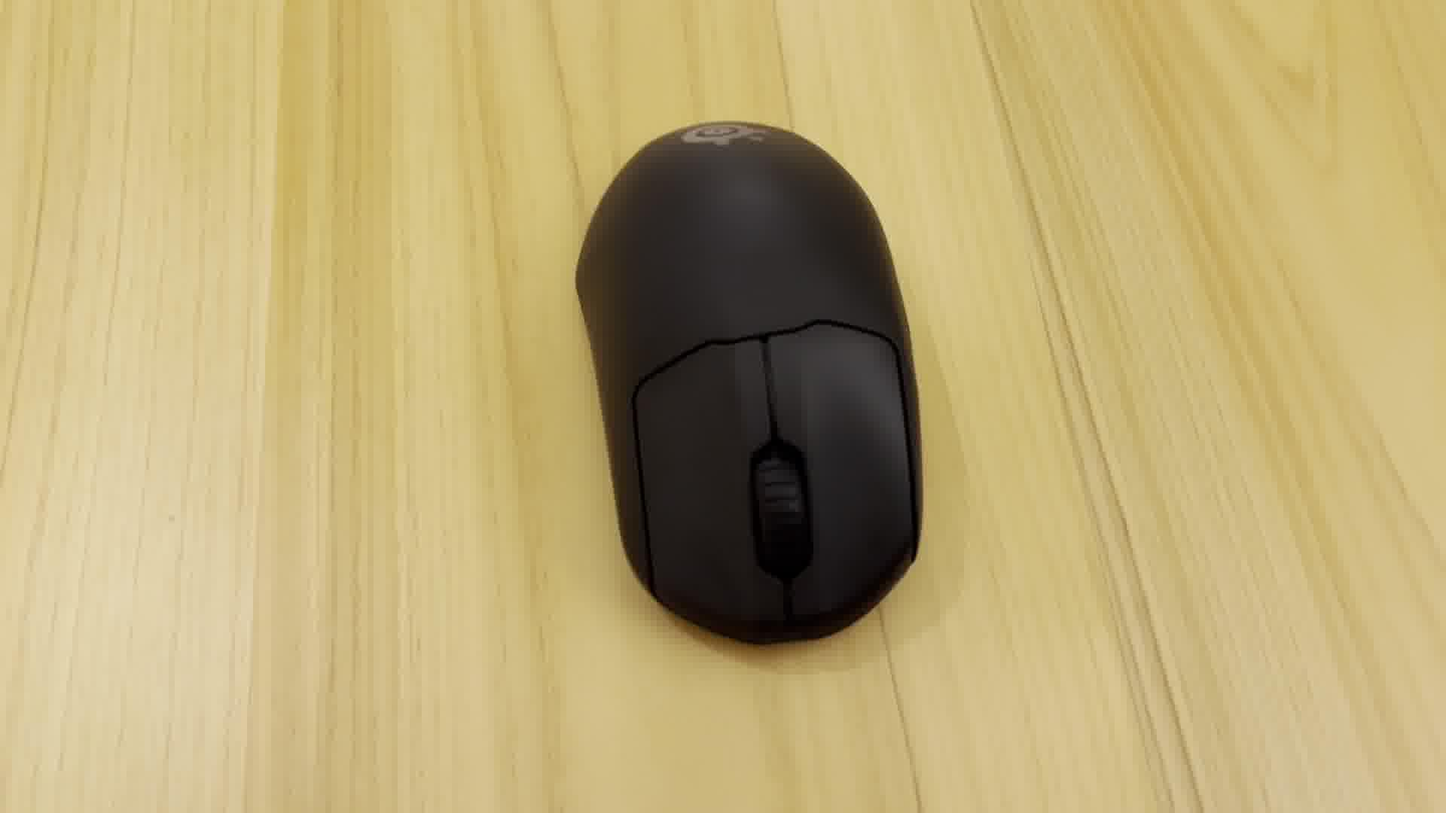steel-series: (565, 108, 943, 659)
